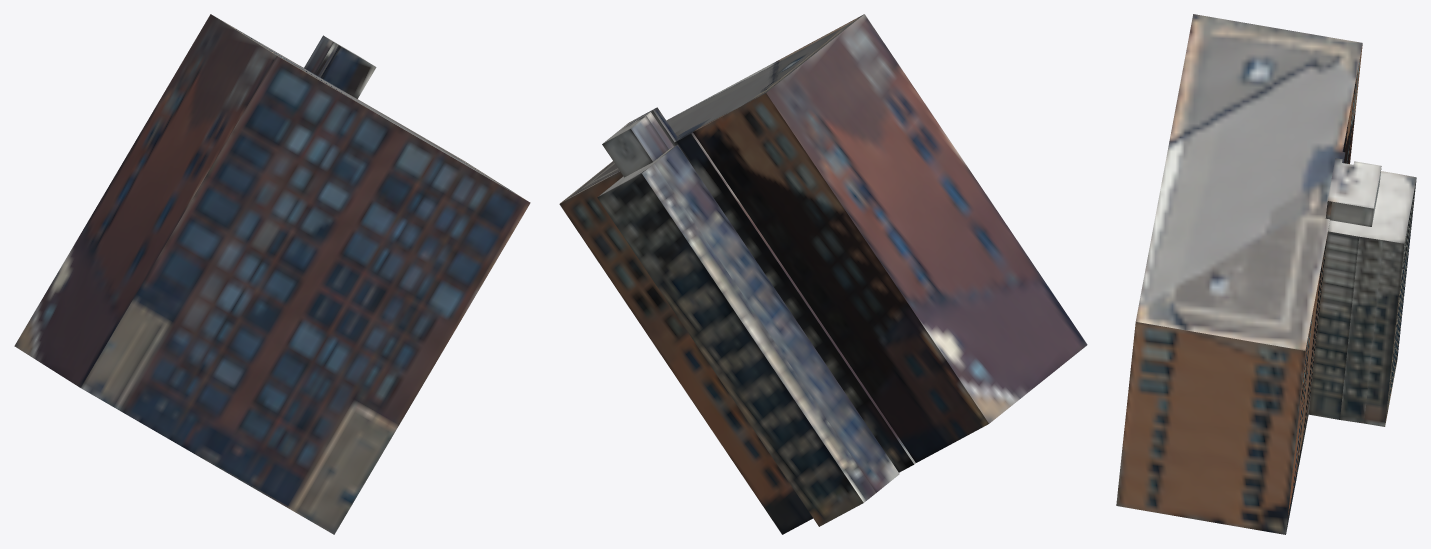
3 views of the same model, side by side, from view 1: azimuth 30°, elevation 25°; view 2: azimuth 150°, elevation 25°; view 3: azimuth 270°, elevation 25° (orthographic). The views are drawn at different scales.
Parts seen in each view (by area): view 1: BAG_0599100000752501 (×3); view 2: BAG_0599100000752501 (×3); view 3: BAG_0599100000752501 (×3).
Boxes of the visible parts, x1=… form: BAG_0599100000752501 (×3): x1=14, y1=14, x2=530, y2=534; BAG_0599100000752501 (×3): x1=559, y1=14, x2=1087, y2=534; BAG_0599100000752501 (×3): x1=1116, y1=14, x2=1416, y2=534.
Size of the model in its own units: 44.53 by 45.58 by 24.67.
Materials: 1 (1 with a texture image).
